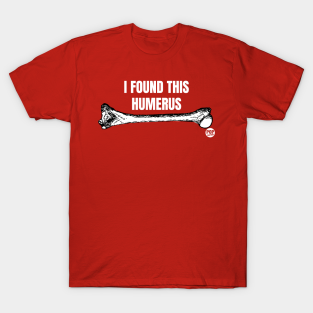design: (96, 78, 217, 139)
